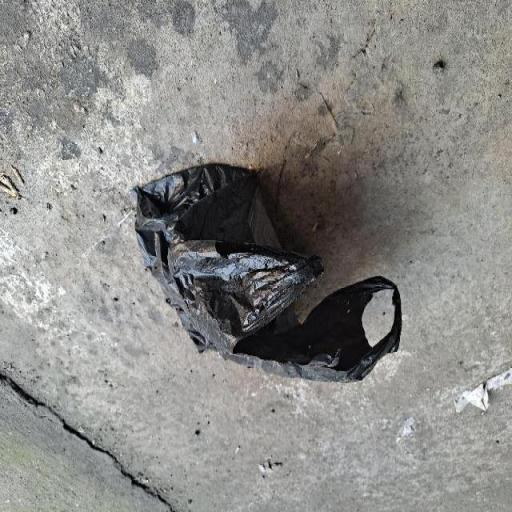plastic-bag: (132, 160, 406, 386)
